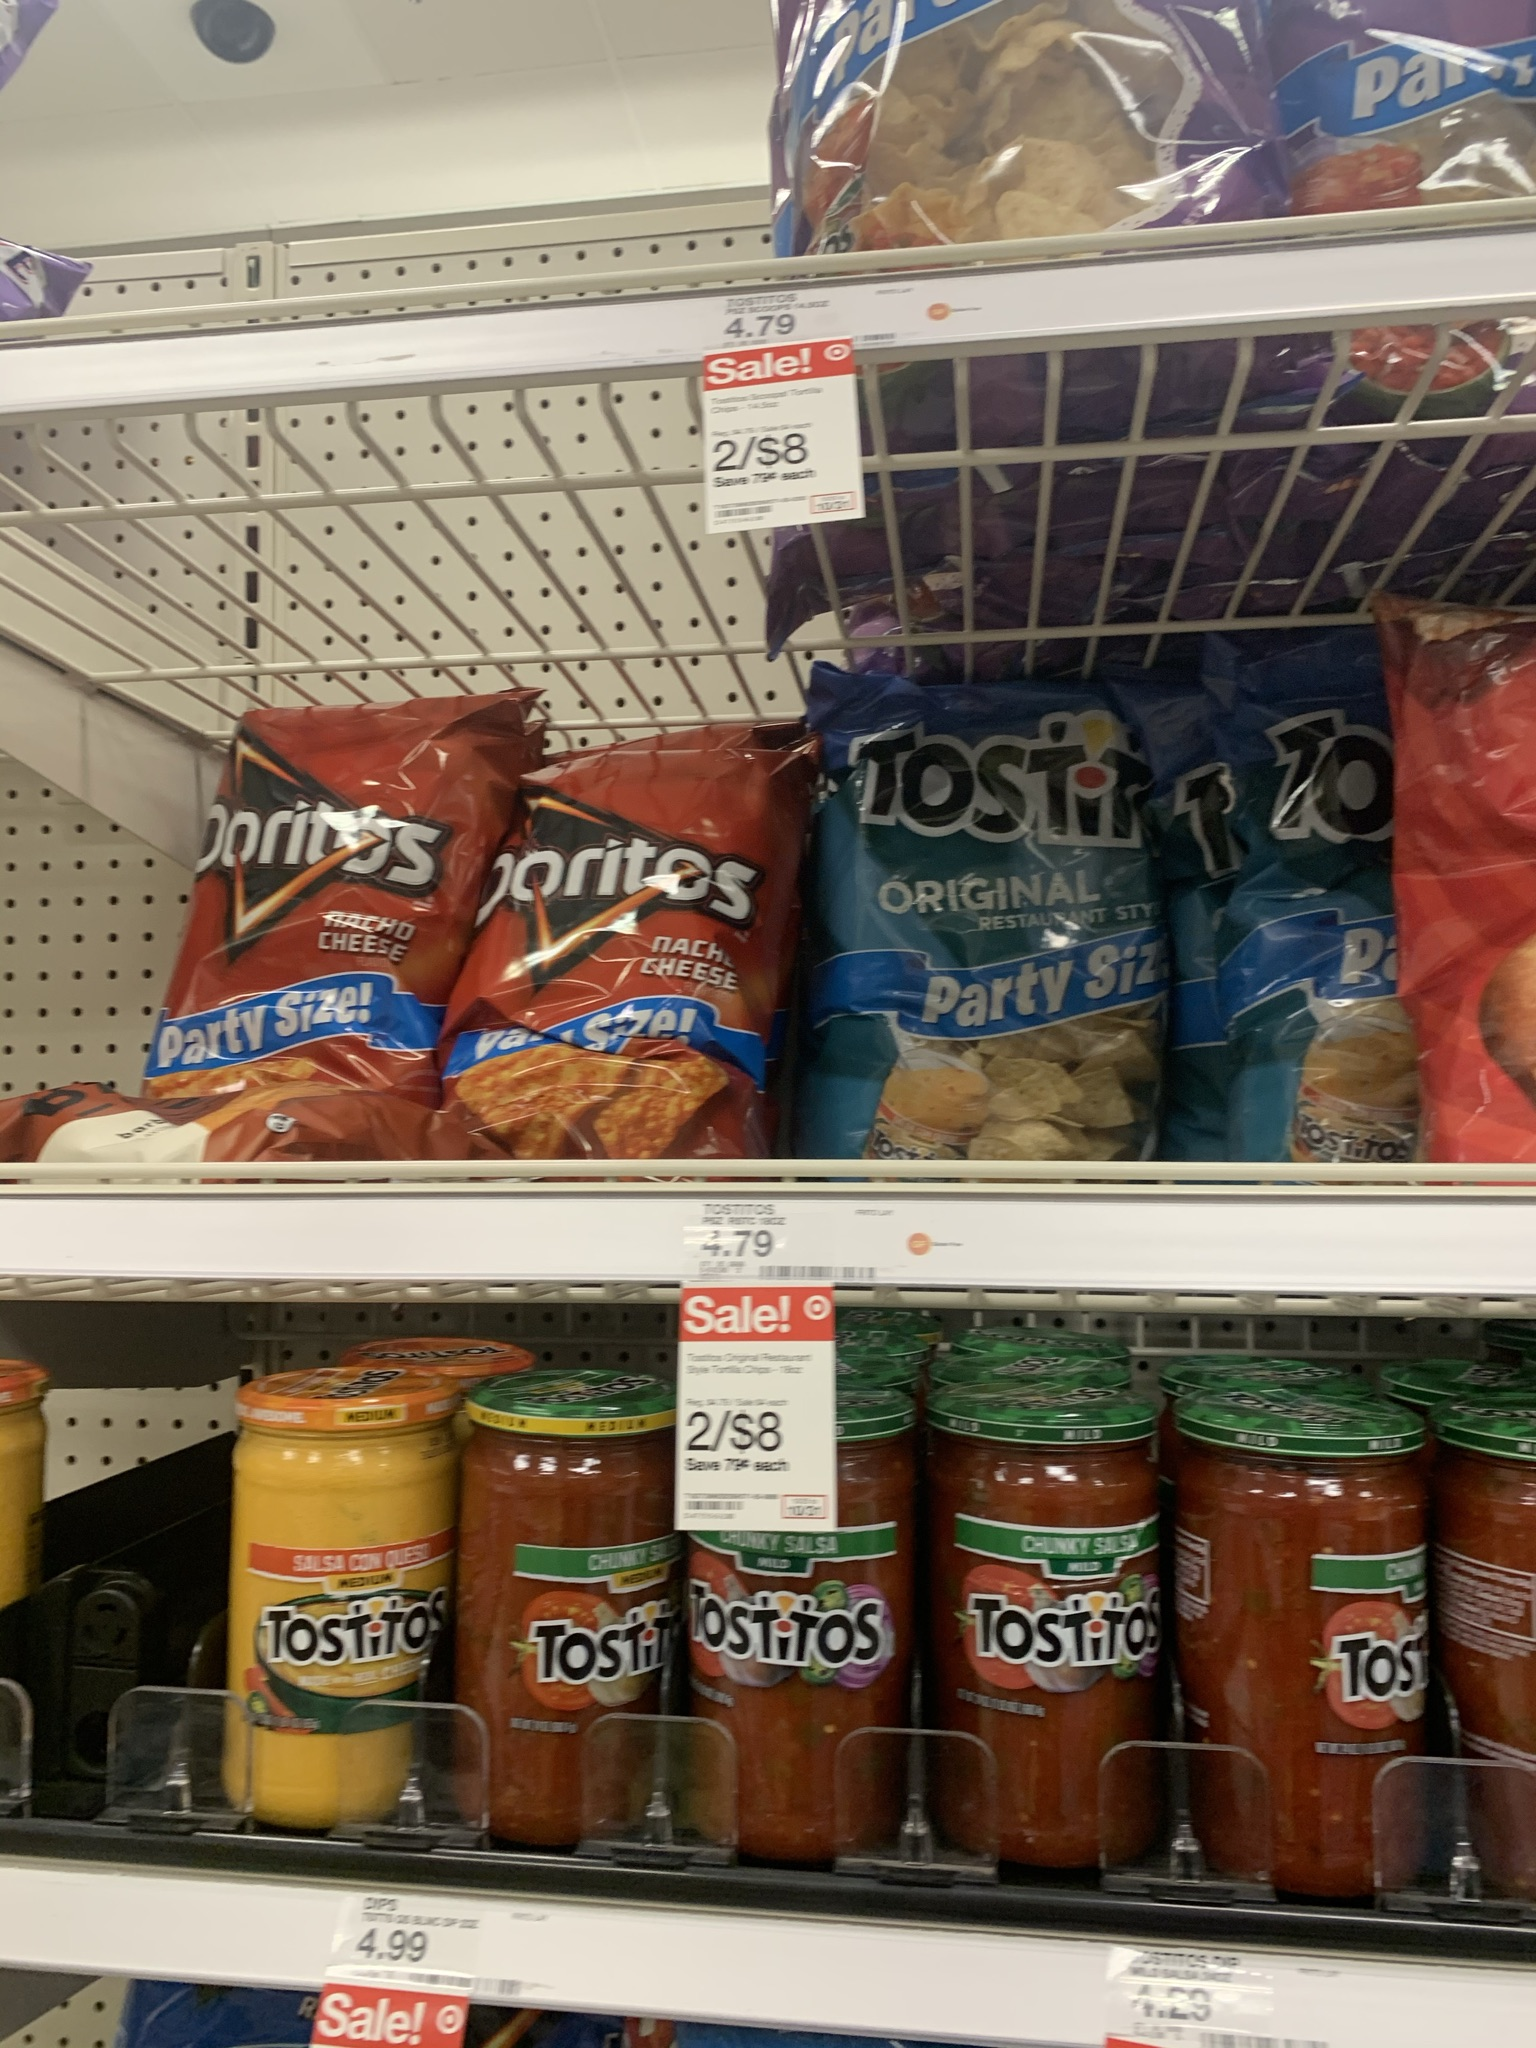doritos chips: (515, 766, 774, 1256), (234, 711, 452, 1179)
tostitos chips: (833, 714, 1142, 1142), (1167, 716, 1425, 1205)
